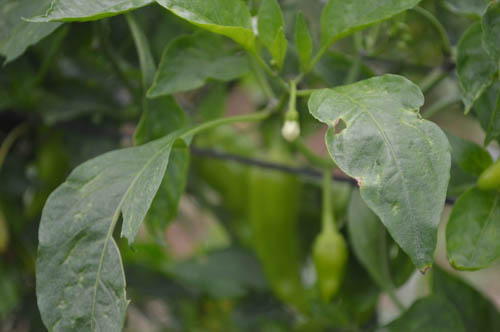ChiliPepper: (244, 156, 309, 308), (310, 237, 351, 309)
